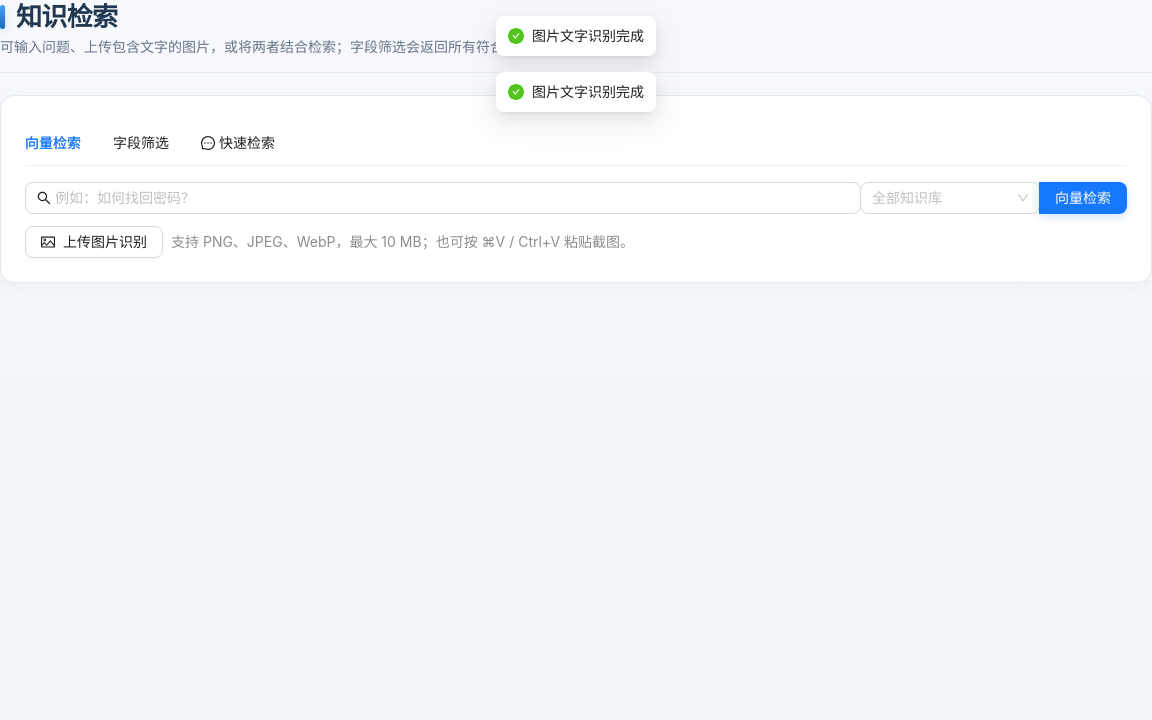
Test: SearchPage OCR › shows staged scores and the matched knowledge field
This screenshot has width=1152, height=720.
Type "密码怎么找回？" into the field with placeholder "例如：如何找回密码？" at (452, 198), box [55,187,849,209]
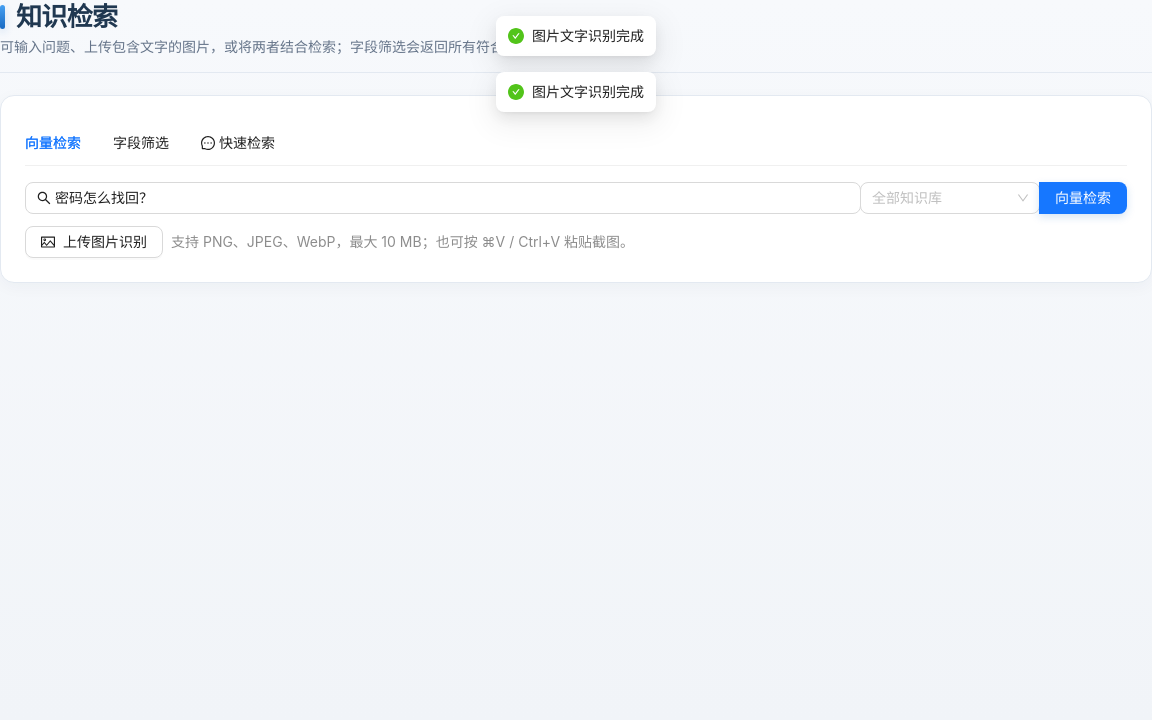
Click the button "向量检索" at (1083, 198), box [1039,182,1127,214]
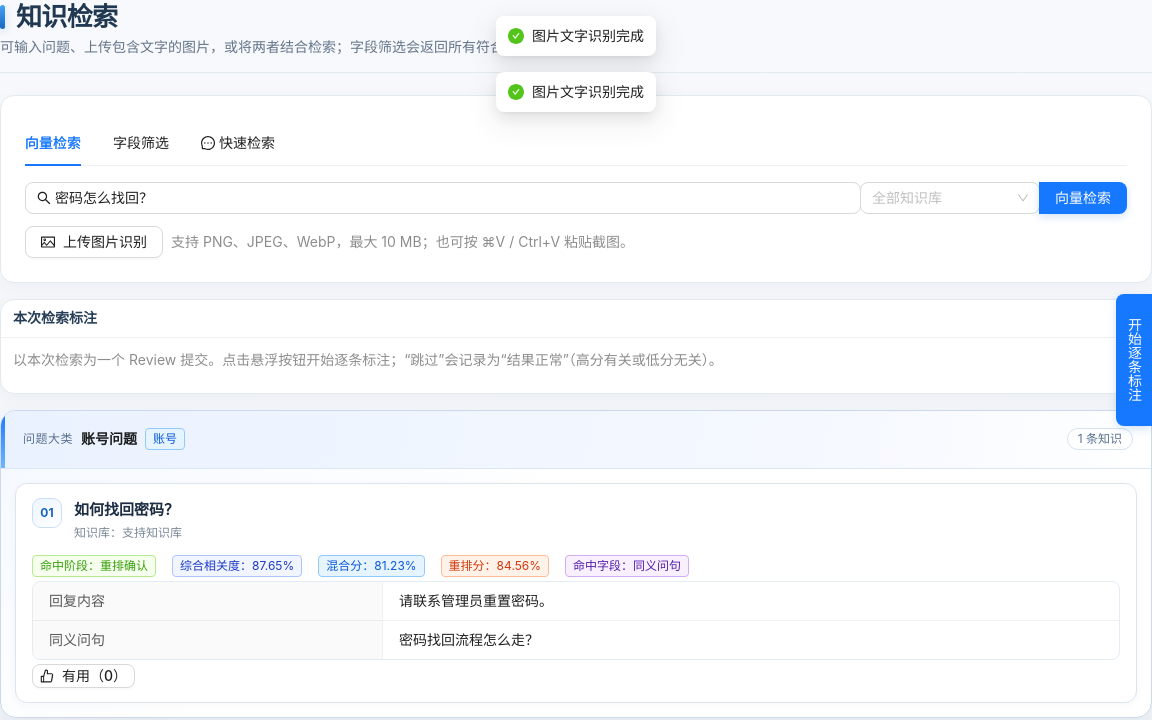
Expected: the text "综合相关度：87.65%" is shown, [172,555,302,577]
Expected: the text "混合分：81.23%" is shown, [318,555,425,577]
Expected: the text "重排分：84.56%" is shown, [441,555,549,577]
